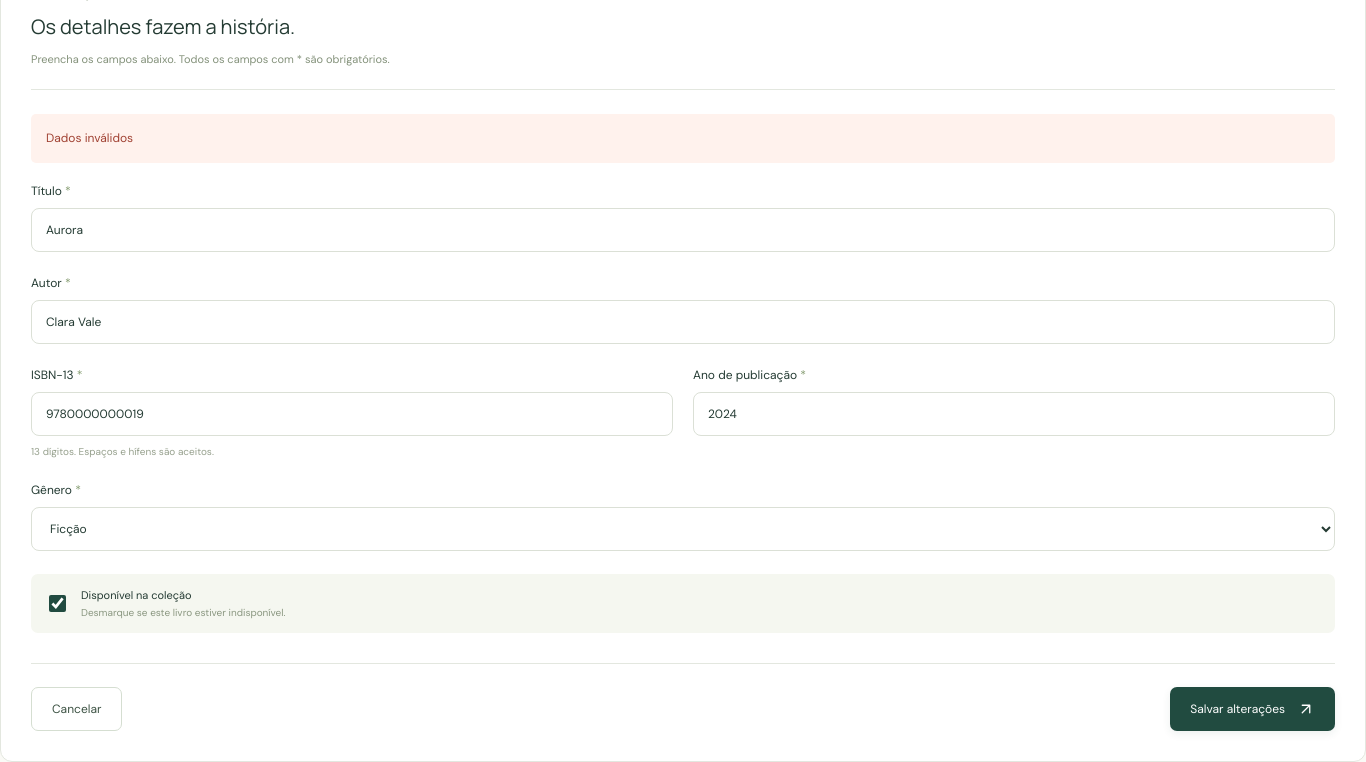
Test case: book form › shows API field errors after a failed save
(page scrolled)
Click the button "Salvar alterações".
click(1253, 709)  # box left=1170, top=687, right=1335, bottom=731
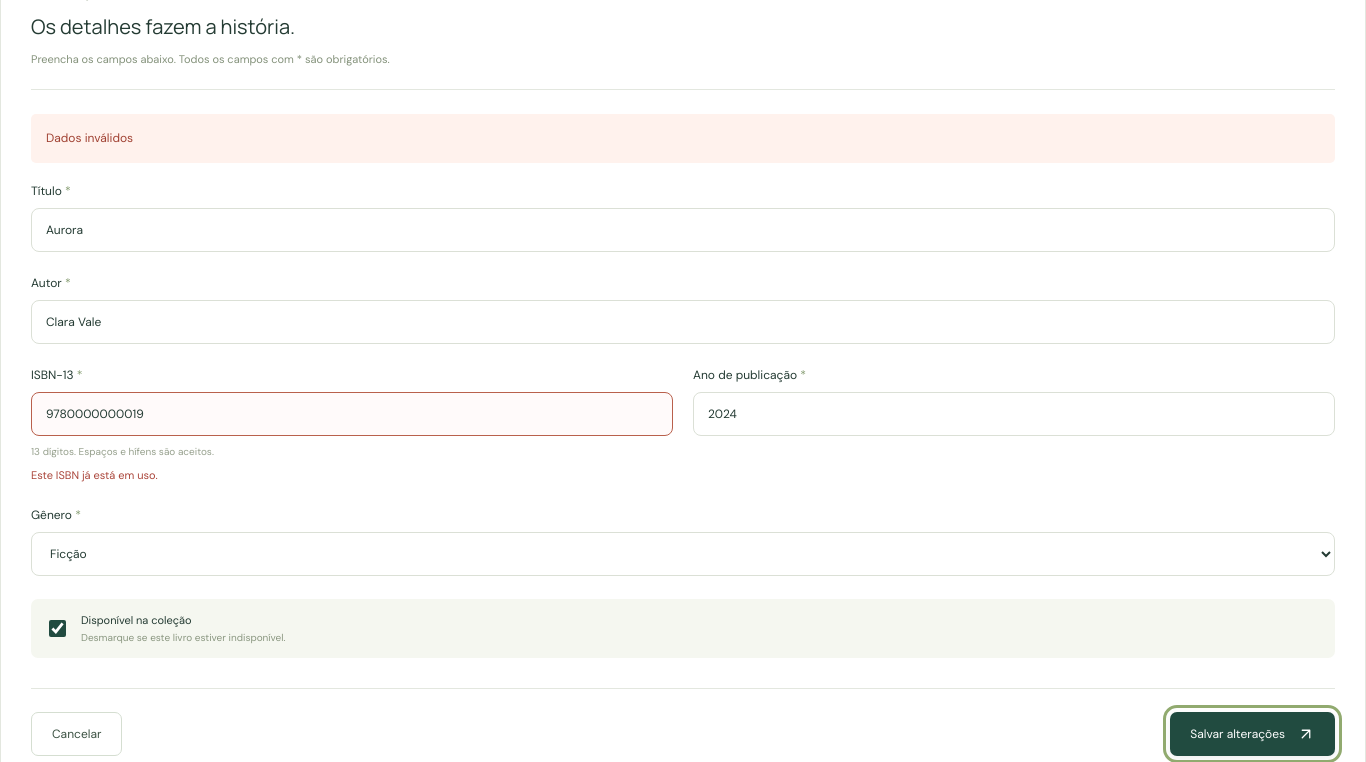
Check: the message reads "Dados inválidos", box left=46, top=130, right=133, bottom=146
Check: the text "Este ISBN já está em uso." is shown, box left=31, top=468, right=158, bottom=482
